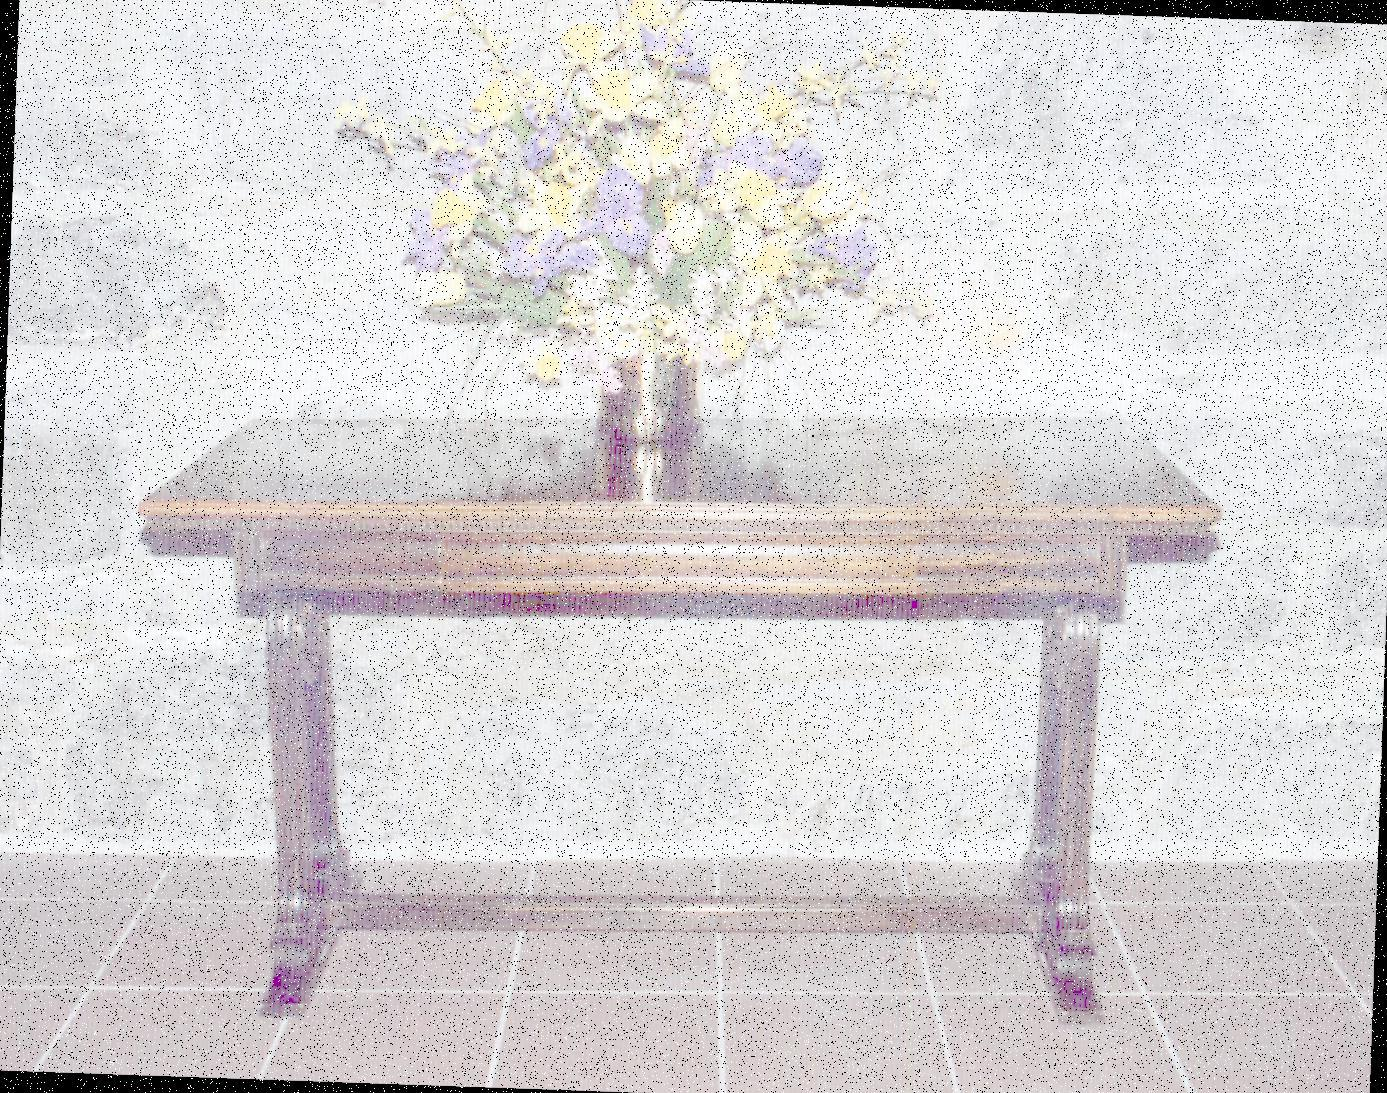Mesa: (120, 380, 1229, 1056)
